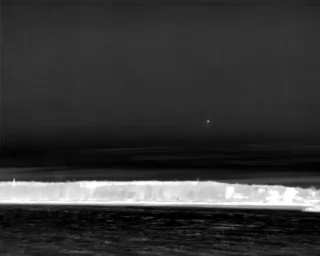HELICOPTER: (204, 117, 212, 126)
